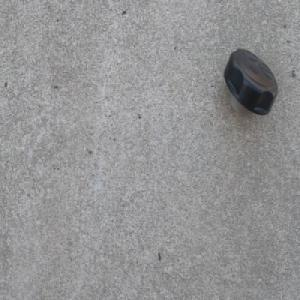FuelCap: (222, 47, 278, 119)
